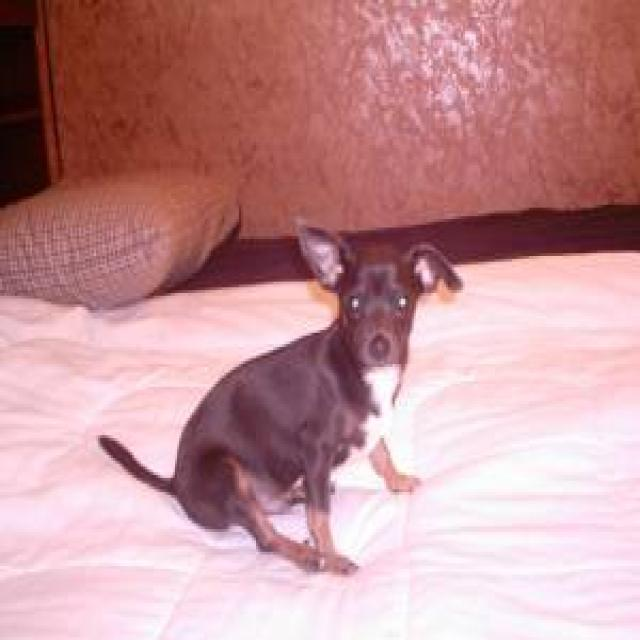dog-chihuahua: (98, 213, 467, 589)
